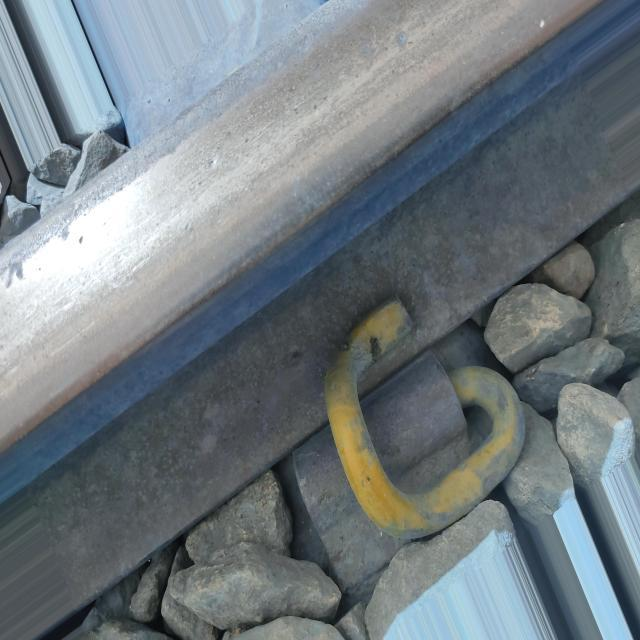Good Fasteners: (281, 287, 532, 600)
